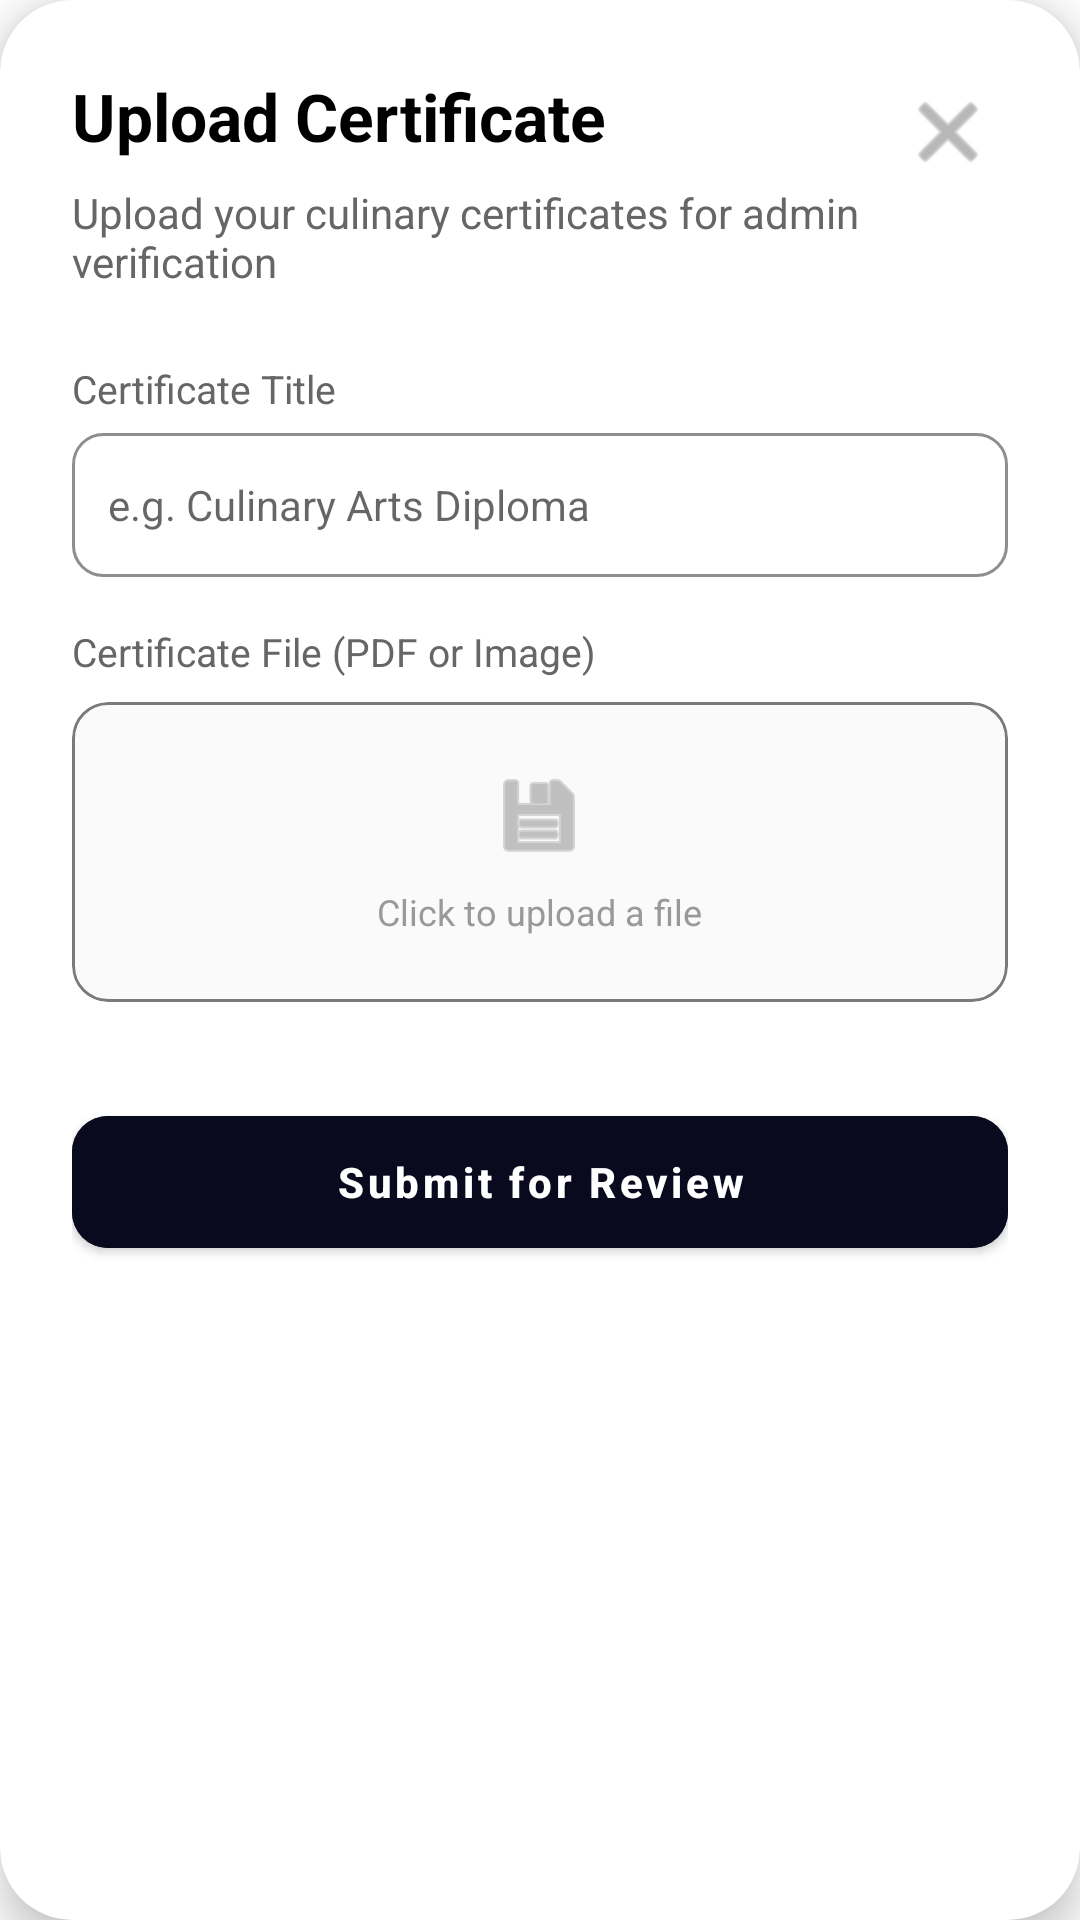

Named icons in this screenshot (1080×1920) and their centers, (x=x, y=y):
Close: (x=948, y=132)
